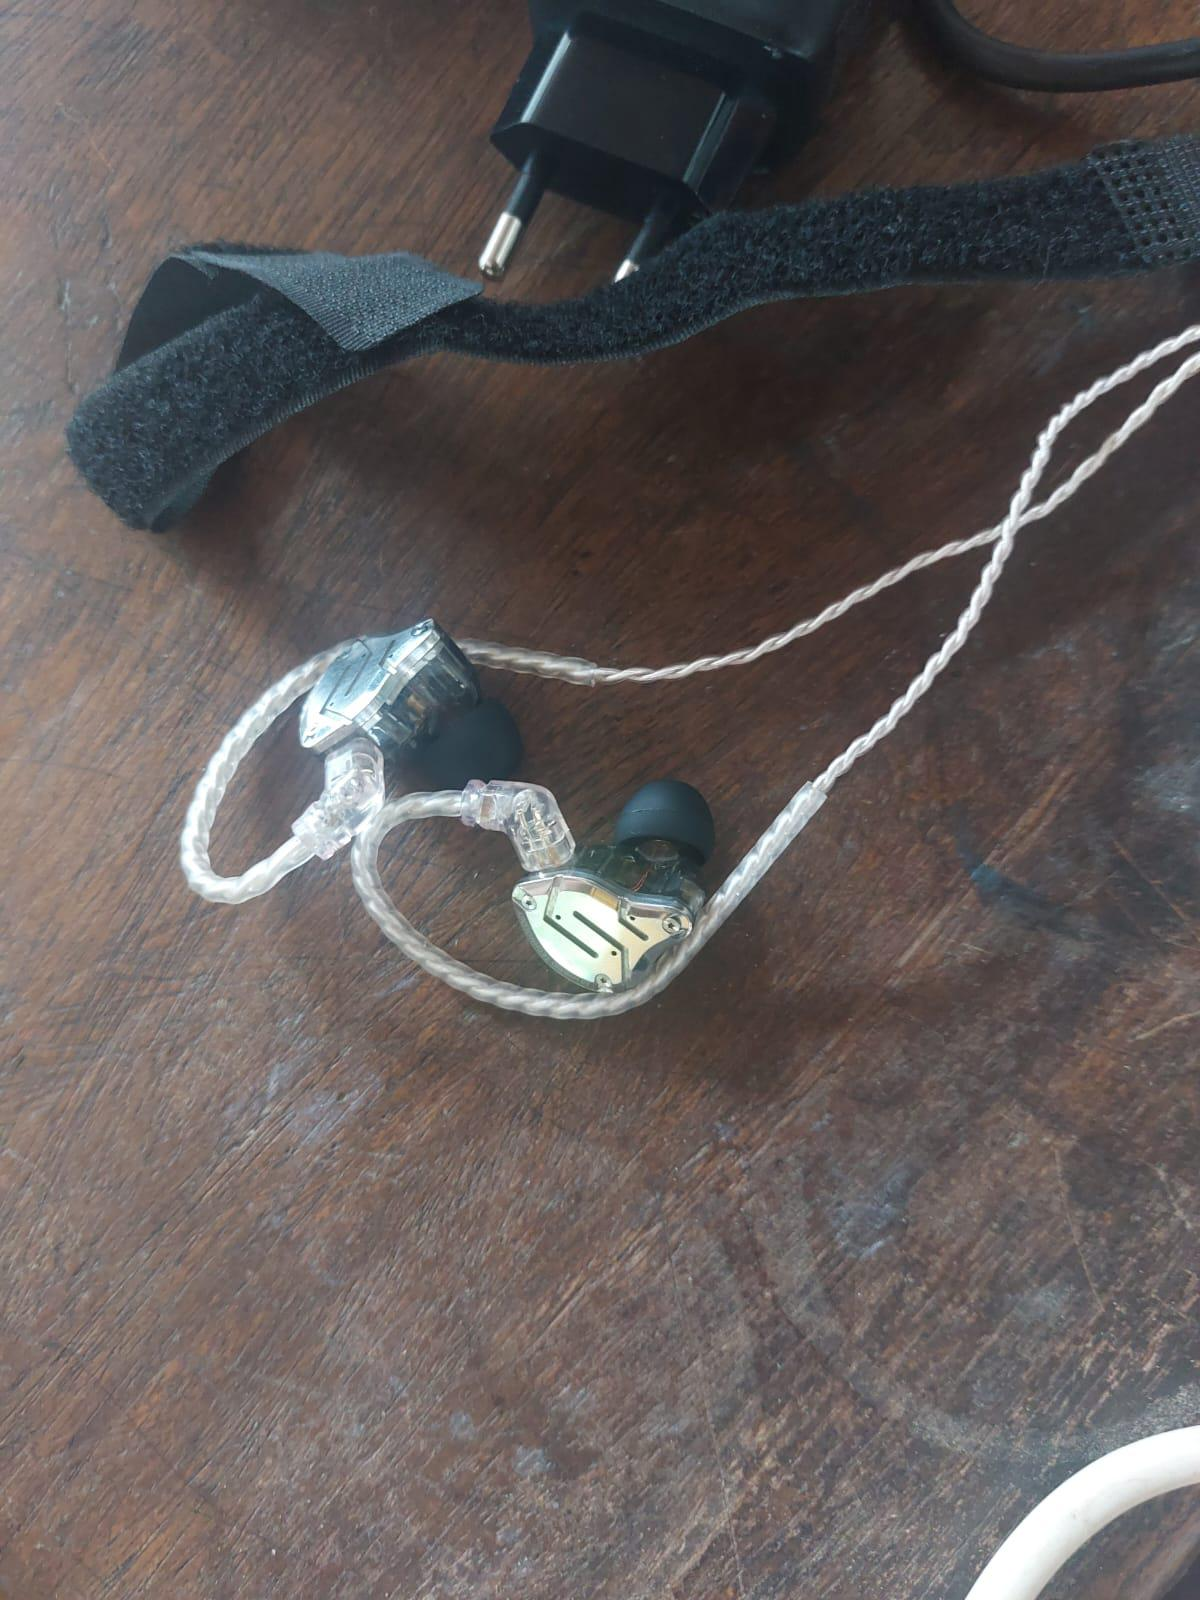Earphone: (489, 765, 736, 1000), (292, 592, 552, 805)
